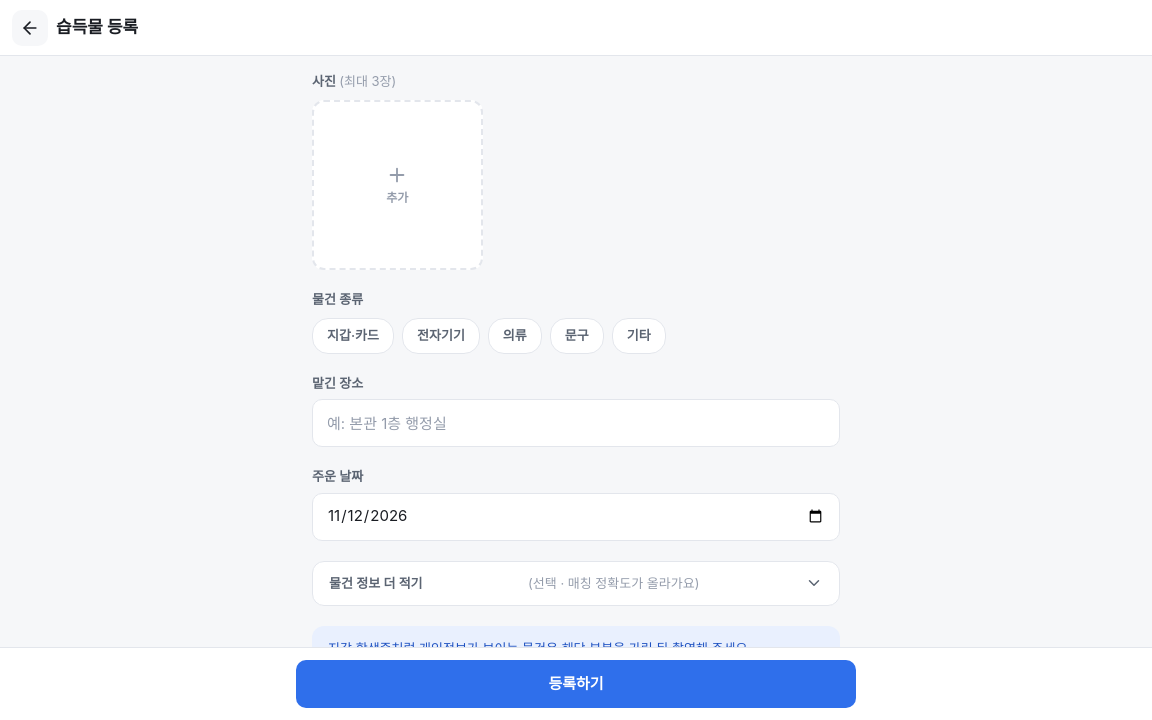
Test case: FoundNewPage › [등록하기]는 비어 있는 칸의 오류를 한 번에 드러낸다
Click the button "등록하기". click: click(576, 684)
box: top-left (296, 660), bottom-right (856, 708)
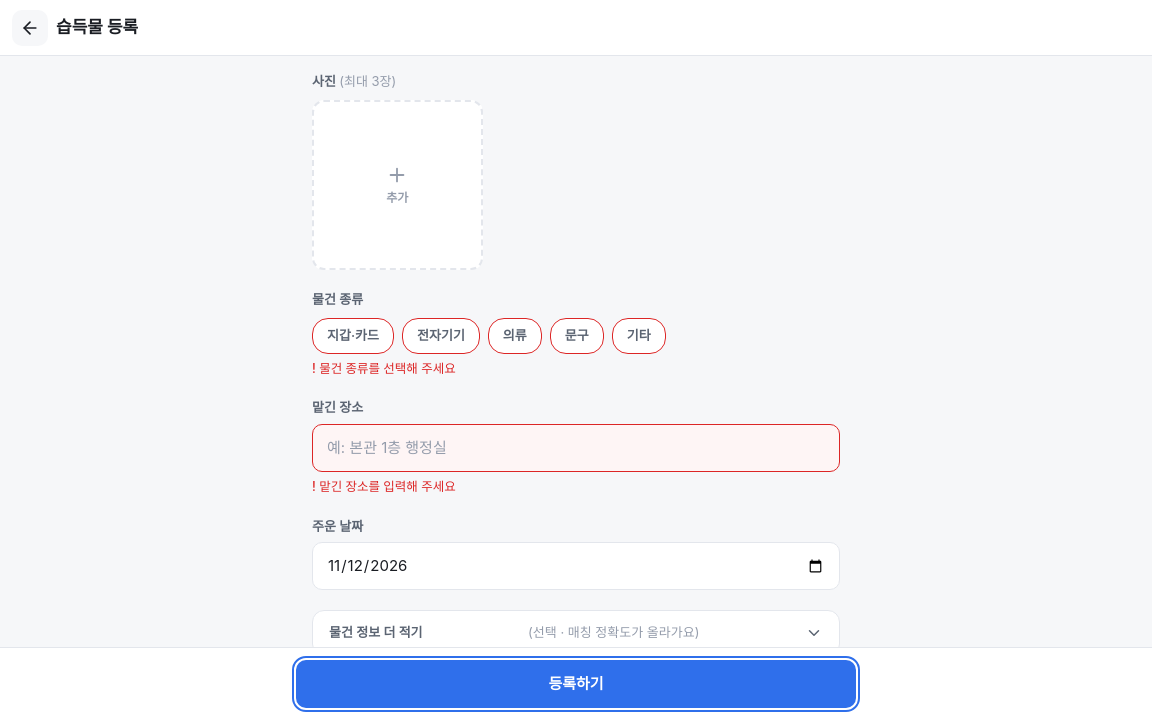
Check: the messages read "! 물건 종류를 선택해 주세요", "! 맡긴 장소를 입력해 주세요", in this order, box top-left (312, 361), bottom-right (456, 376); top-left (312, 479), bottom-right (456, 494)
